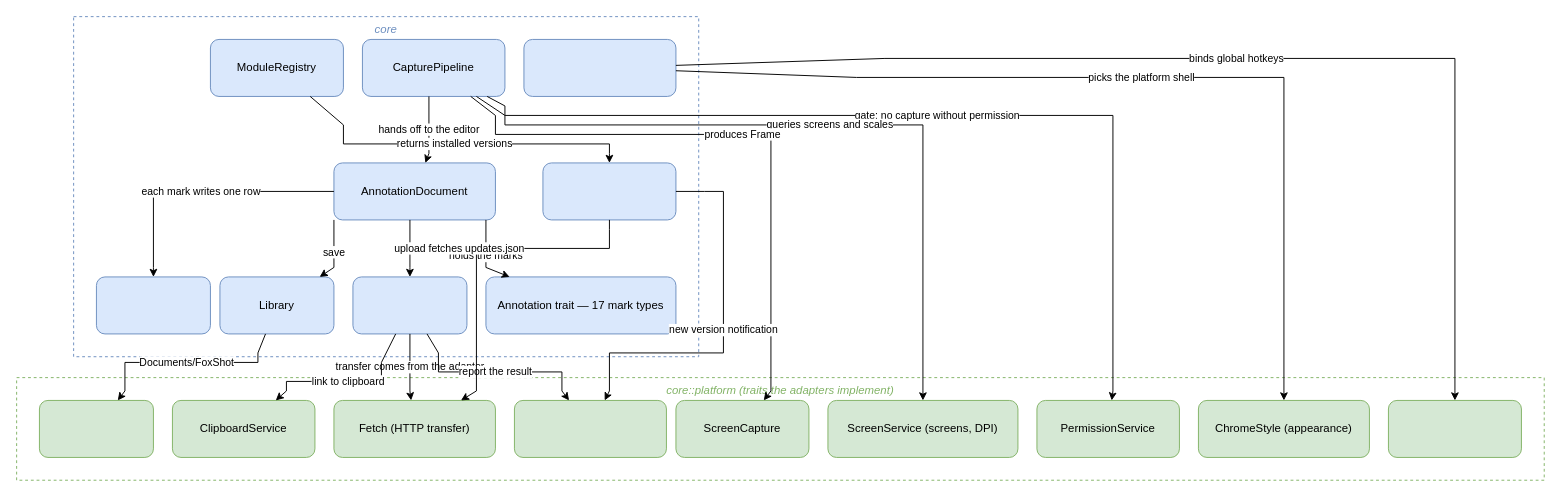
Some shapes in this 1561 by 497 pixel diagram are drawn without their labels. Here are the shapes that lost their labels. From the top down, the centre of each, then its label:
At [599,67]: "Settings + Hotkeys".
At [609,191]: "UpdateChecker".
At [152,305]: "Finding".
At [409,305]: "UploadQueue".
At [95,428]: "Paths".
At [589,428]: "NotificationService".
At [1454,428]: "HotkeyService".
